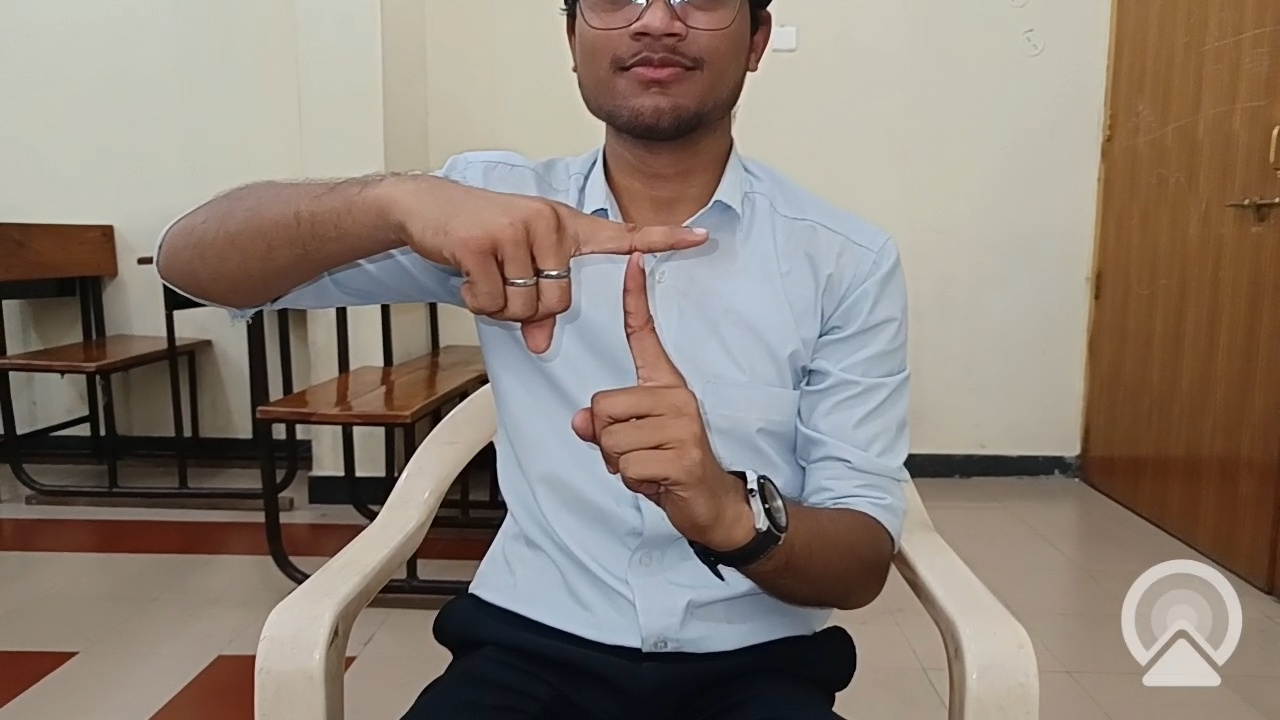T: (492, 170, 816, 583)
